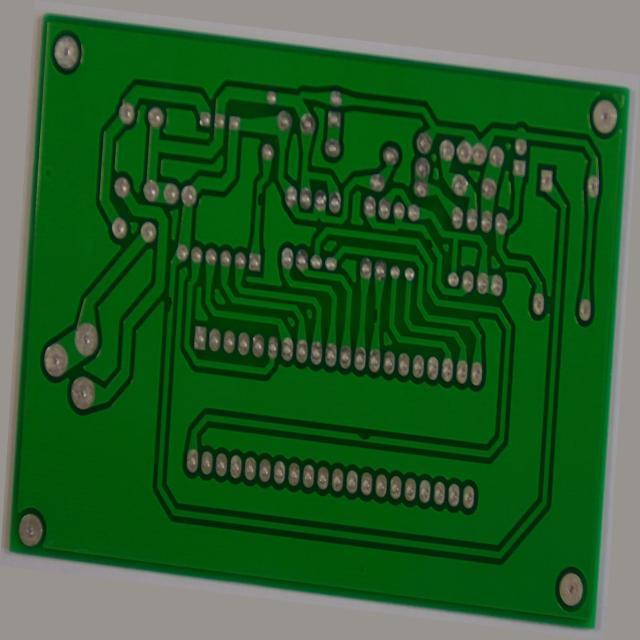mouse_bite: (363, 436, 383, 456), (373, 293, 386, 323), (155, 308, 167, 339), (242, 180, 253, 207), (424, 209, 438, 229)
